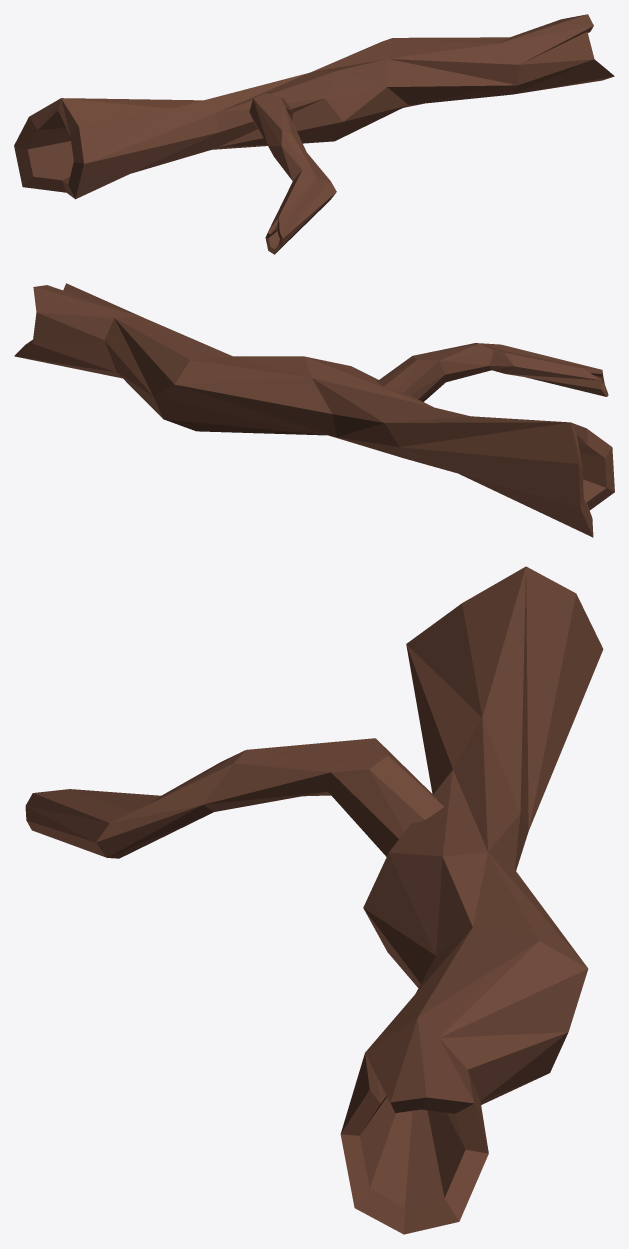
The model's file is Wooden Log_2.fbx.
The picture shows the model from 3 angles, top to bottom: view 1: azimuth 30°, elevation 25°; view 2: azimuth 150°, elevation 25°; view 3: azimuth 270°, elevation 25°; orthographic projection. The views are drawn at different scales.
Parts seen in each view (by area): view 1: Wooden Log_2; view 2: Wooden Log_2; view 3: Wooden Log_2.
Part boxes in pixels (left/top/right/bottom): Wooden Log_2: left=14, top=14, right=614, bottom=254; Wooden Log_2: left=14, top=283, right=614, bottom=537; Wooden Log_2: left=25, top=566, right=603, bottom=1234.
Bounding box in the file's own units: 3.52 × 0.5675 × 1.63.
